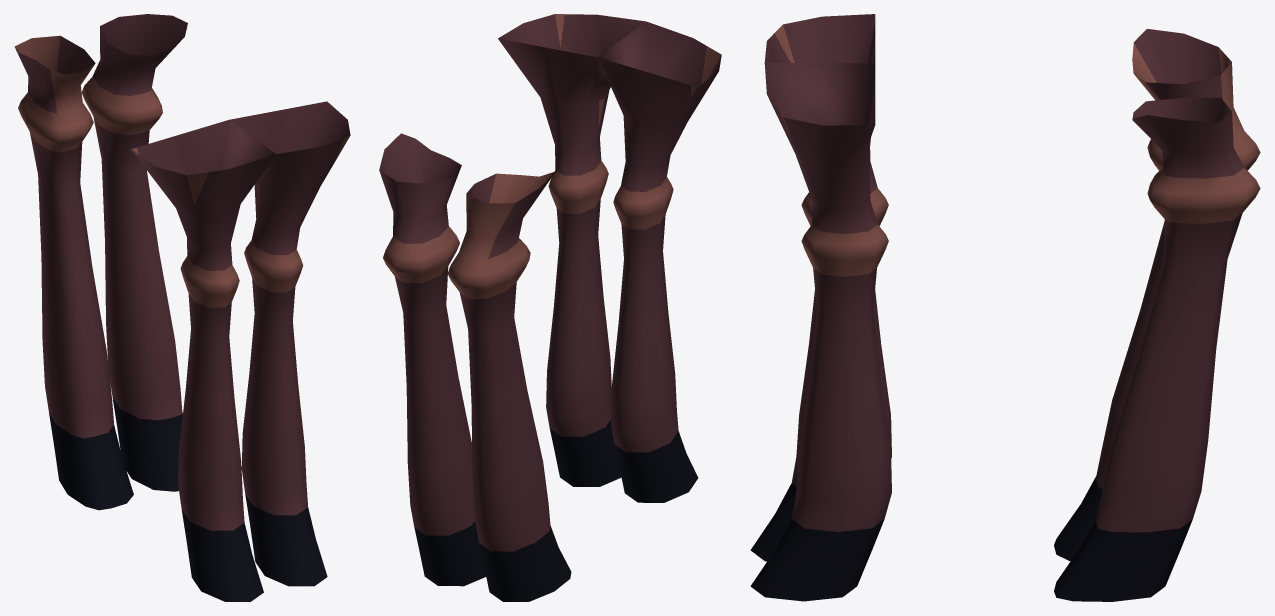
Rendered from mooselegs.fbx.
The picture shows the model from 3 angles, left to right: view 1: azimuth 30°, elevation 25°; view 2: azimuth 150°, elevation 25°; view 3: azimuth 270°, elevation 25°; orthographic projection. The views are drawn at different scales.
Visible parts, largest first — view 1: legs; view 2: legs; view 3: legs.
Boxes of the visible parts, box(x1,y1,x2,y2) form: legs: box(14, 14, 350, 601); legs: box(379, 14, 721, 601); legs: box(750, 14, 1260, 601).
Bounding box in the file's own units: 83.83 × 178 × 162.
